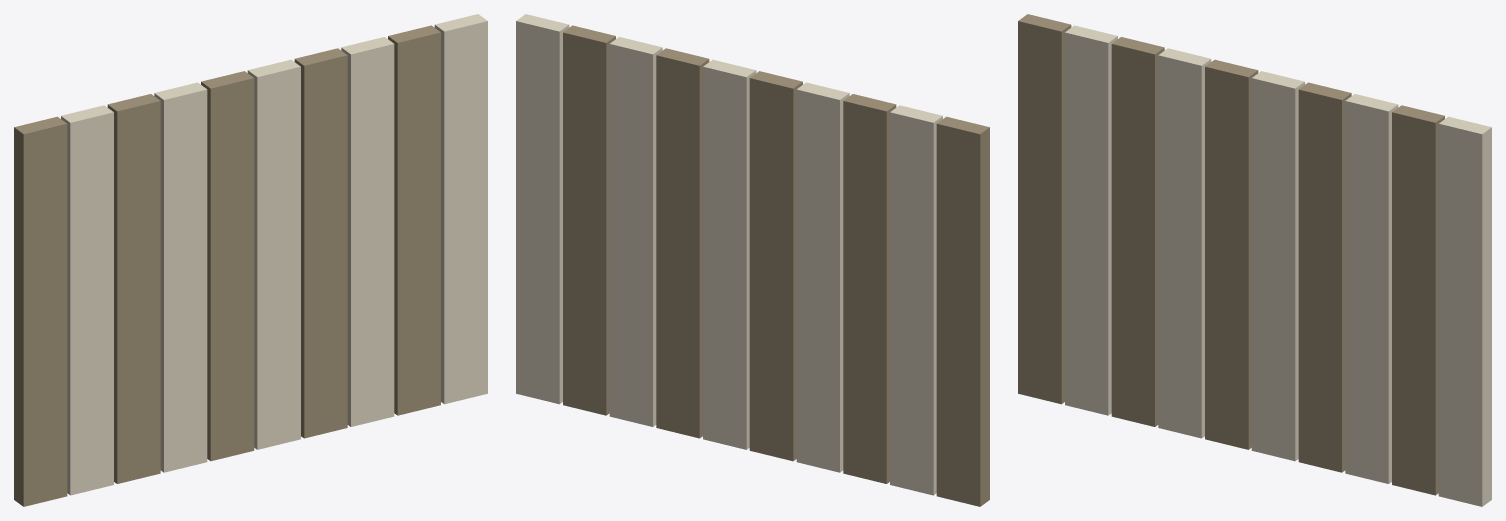
Rendered from curtain.glb.
The picture shows the model from 3 angles, left to right: view 1: azimuth 30°, elevation 25°; view 2: azimuth 150°, elevation 25°; view 3: azimuth 330°, elevation 25°; orthographic projection.
Parts seen in each view (by area): view 1: REF-L04-R01-curtain-part-1, REF-L04-R01-curtain-part-4, REF-L04-R01-curtain-part-8, REF-L04-R01-curtain-part-5, REF-L04-R01-curtain-part-7, REF-L04-R01-curtain-part-3, REF-L04-R01-curtain-part-6, REF-L04-R01-curtain-part-10, REF-L04-R01-curtain-part-2, REF-L04-R01-curtain-part-9; view 2: REF-L04-R01-curtain-part-1, REF-L04-R01-curtain-part-4, REF-L04-R01-curtain-part-8, REF-L04-R01-curtain-part-5, REF-L04-R01-curtain-part-7, REF-L04-R01-curtain-part-3, REF-L04-R01-curtain-part-6, REF-L04-R01-curtain-part-10, REF-L04-R01-curtain-part-2, REF-L04-R01-curtain-part-9; view 3: REF-L04-R01-curtain-part-10, REF-L04-R01-curtain-part-3, REF-L04-R01-curtain-part-7, REF-L04-R01-curtain-part-6, REF-L04-R01-curtain-part-4, REF-L04-R01-curtain-part-8, REF-L04-R01-curtain-part-5, REF-L04-R01-curtain-part-1, REF-L04-R01-curtain-part-2, REF-L04-R01-curtain-part-9.
Part boxes in pixels (box(x1,y1,x2,y2)): REF-L04-R01-curtain-part-1: box(14, 116, 67, 506); REF-L04-R01-curtain-part-4: box(154, 82, 207, 472); REF-L04-R01-curtain-part-8: box(341, 37, 394, 426); REF-L04-R01-curtain-part-5: box(201, 71, 254, 461); REF-L04-R01-curtain-part-7: box(294, 48, 347, 438); REF-L04-R01-curtain-part-3: box(107, 94, 160, 483); REF-L04-R01-curtain-part-6: box(247, 59, 300, 449); REF-L04-R01-curtain-part-10: box(434, 14, 487, 404); REF-L04-R01-curtain-part-2: box(61, 105, 113, 495); REF-L04-R01-curtain-part-9: box(388, 25, 440, 415); REF-L04-R01-curtain-part-1: box(936, 116, 989, 506); REF-L04-R01-curtain-part-4: box(796, 82, 849, 472); REF-L04-R01-curtain-part-8: box(609, 37, 662, 426); REF-L04-R01-curtain-part-5: box(749, 71, 802, 461); REF-L04-R01-curtain-part-7: box(656, 48, 709, 438); REF-L04-R01-curtain-part-3: box(843, 94, 896, 483); REF-L04-R01-curtain-part-6: box(703, 59, 756, 449); REF-L04-R01-curtain-part-10: box(516, 14, 569, 404); REF-L04-R01-curtain-part-2: box(890, 105, 942, 495); REF-L04-R01-curtain-part-9: box(563, 25, 615, 415); REF-L04-R01-curtain-part-10: box(1438, 116, 1491, 506); REF-L04-R01-curtain-part-3: box(1111, 37, 1164, 426); REF-L04-R01-curtain-part-7: box(1298, 82, 1351, 472); REF-L04-R01-curtain-part-6: box(1251, 71, 1304, 461); REF-L04-R01-curtain-part-4: box(1158, 48, 1211, 438); REF-L04-R01-curtain-part-8: box(1345, 94, 1398, 483); REF-L04-R01-curtain-part-5: box(1205, 59, 1258, 449); REF-L04-R01-curtain-part-1: box(1018, 14, 1071, 404); REF-L04-R01-curtain-part-2: box(1065, 25, 1117, 415); REF-L04-R01-curtain-part-9: box(1392, 105, 1444, 495).
Size of the model in its own units: 0.8341 by 0.64 by 0.03.
